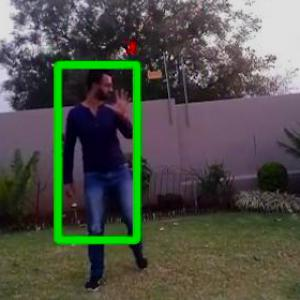follow_hand: (104, 82, 135, 117)
